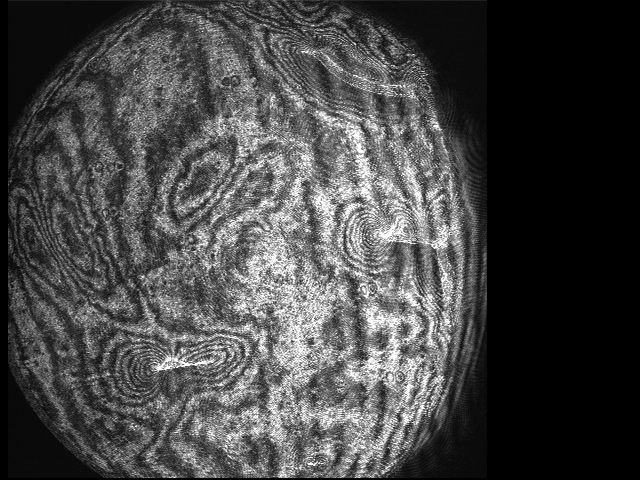plume: (89, 327, 255, 407)
